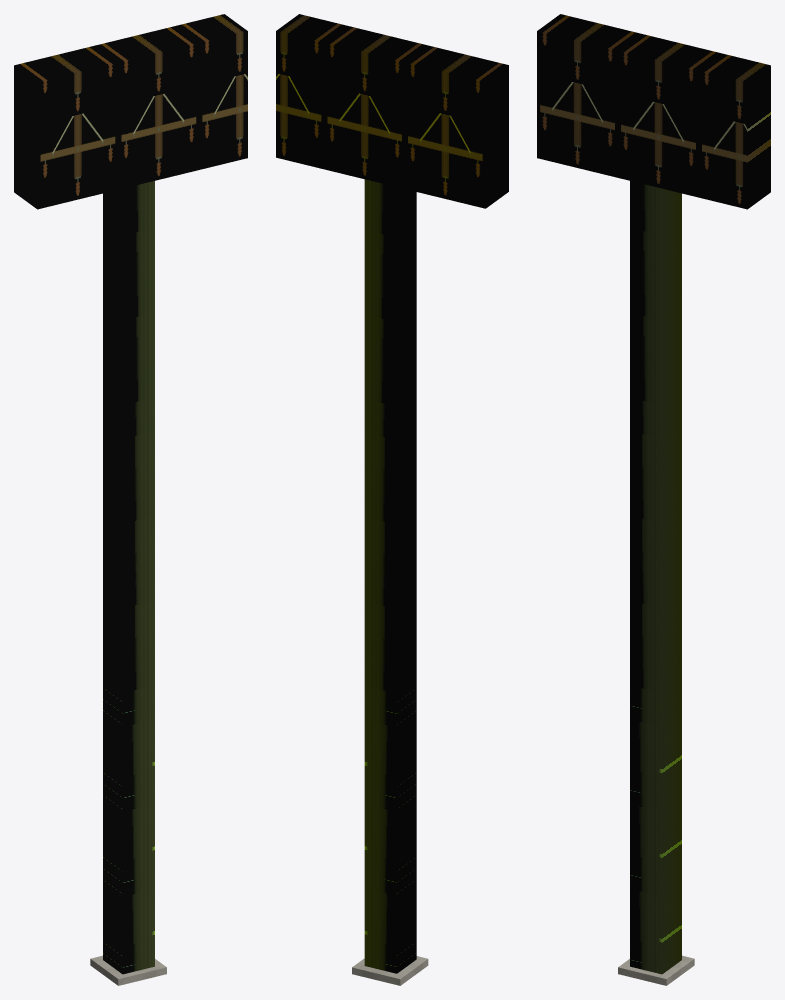
Rendered from pole.glb.
The picture shows the model from 3 angles, left to right: view 1: azimuth 30°, elevation 25°; view 2: azimuth 150°, elevation 25°; view 3: azimuth 330°, elevation 25°; orthographic projection.
Parts seen in each view (by area): view 1: pole; view 2: pole; view 3: pole.
Part boxes in pixels (bbox=[...]): pole: bbox=[14, 14, 247, 985]; pole: bbox=[276, 14, 508, 985]; pole: bbox=[537, 14, 770, 985].
Size of the model in its own units: 2.6 by 10.9 by 0.6.
5 materials, 5 textured.
